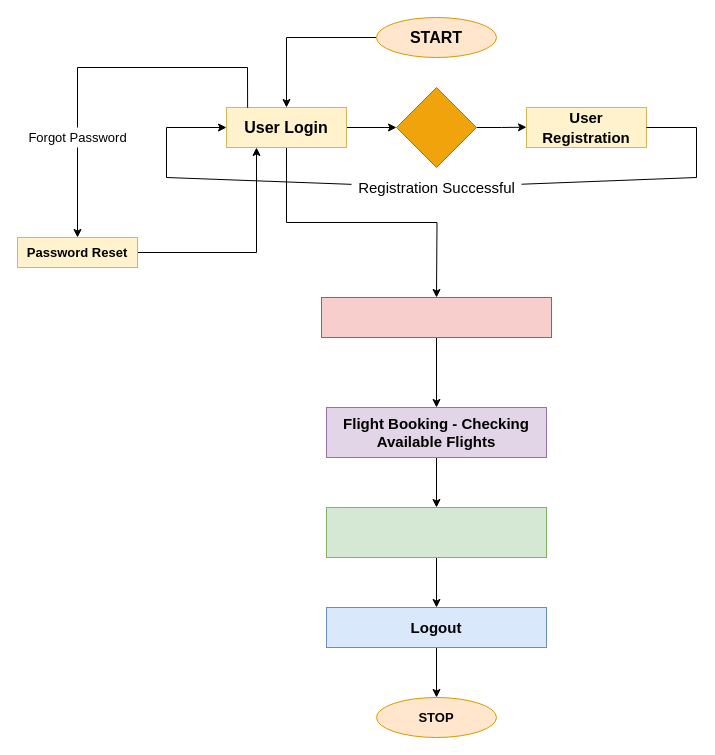
This 715x755 diagram has some shape labels left out. The centre of each missing label's shape, as x and y in pixels:
Booking Confirmed: pixel 436 532
Entering Travel Details: pixel 436 317
New User: pixel 436 127
